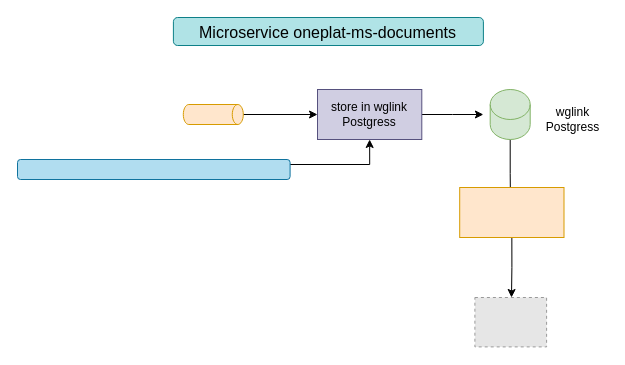
Image size: 625x365. Some labels were removed from this diagram. Grey dashed boxes stand in for pictures. Here are the shapes that lost their labels. From the top down, the centre of each, then its label:
At point (153, 169): "POST /crm-attachments/api/v1/attachments".
At point (511, 212): "wglink system".
